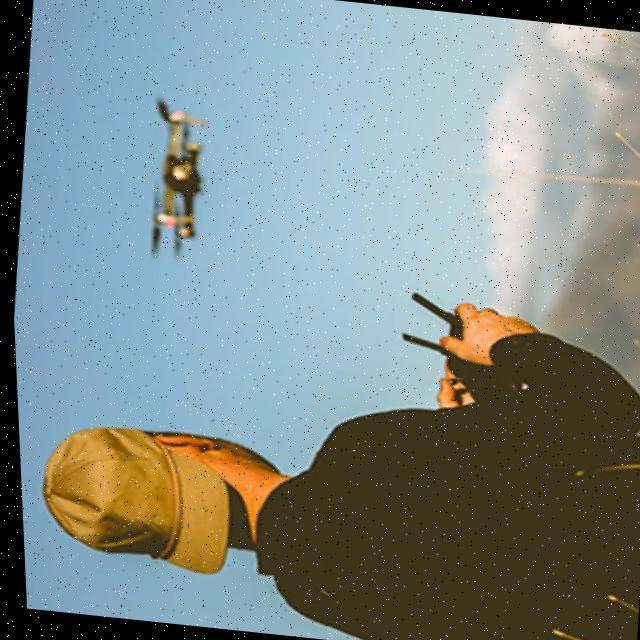drones: (98, 64, 289, 272)
